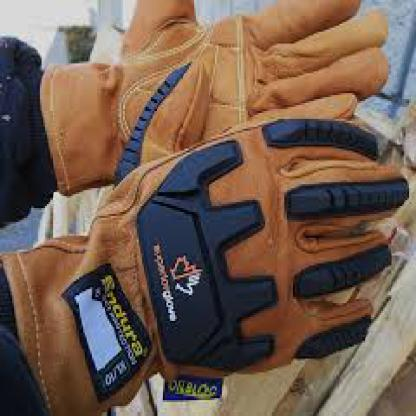with_gloves: (1, 117, 413, 414), (38, 2, 390, 196)
